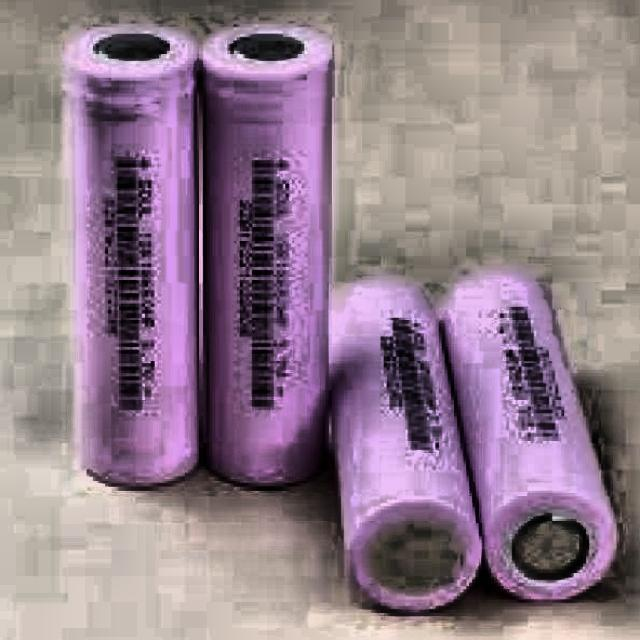battery: (198, 21, 335, 488), (68, 20, 201, 488), (439, 270, 616, 601), (332, 277, 483, 614)
